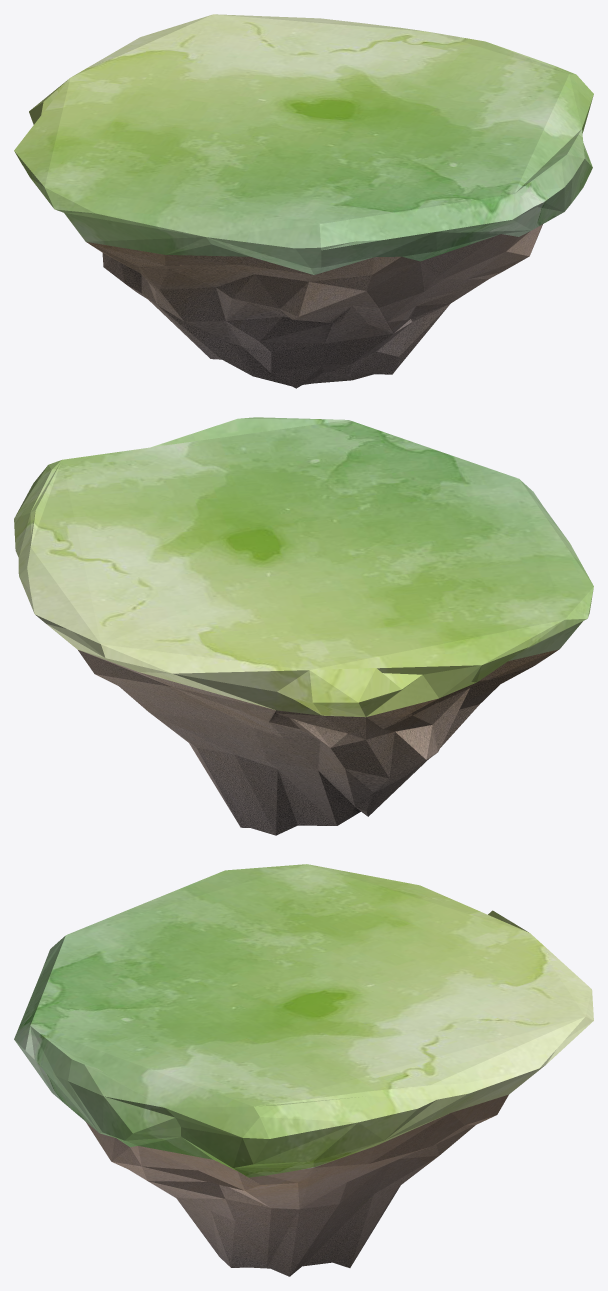
The model's file is Floating_island.fbx.
3 views of the same model, one above another, from view 1: azimuth 30°, elevation 25°; view 2: azimuth 150°, elevation 25°; view 3: azimuth 270°, elevation 25° (orthographic). The views are drawn at different scales.
Parts seen in each view (by area): view 1: polySurface1; view 2: polySurface1; view 3: polySurface1.
Part boxes in pixels (bbox=[...]): polySurface1: bbox=[14, 14, 593, 388]; polySurface1: bbox=[14, 417, 593, 835]; polySurface1: bbox=[14, 864, 593, 1276].
Size of the model in its own units: 1075 by 513 by 990.
